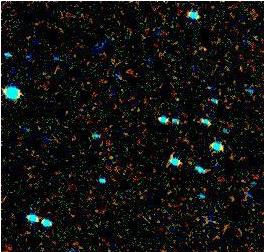star: (173, 150, 203, 180)
